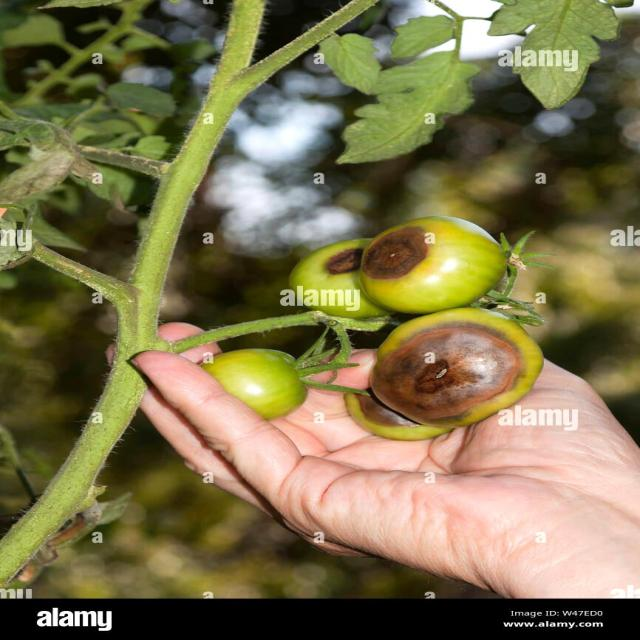Rotten_Tomato: (345, 323, 552, 437), (360, 224, 508, 303)
